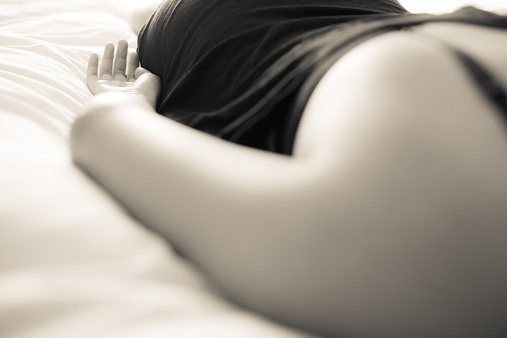deitado: (5, 0, 488, 324)
